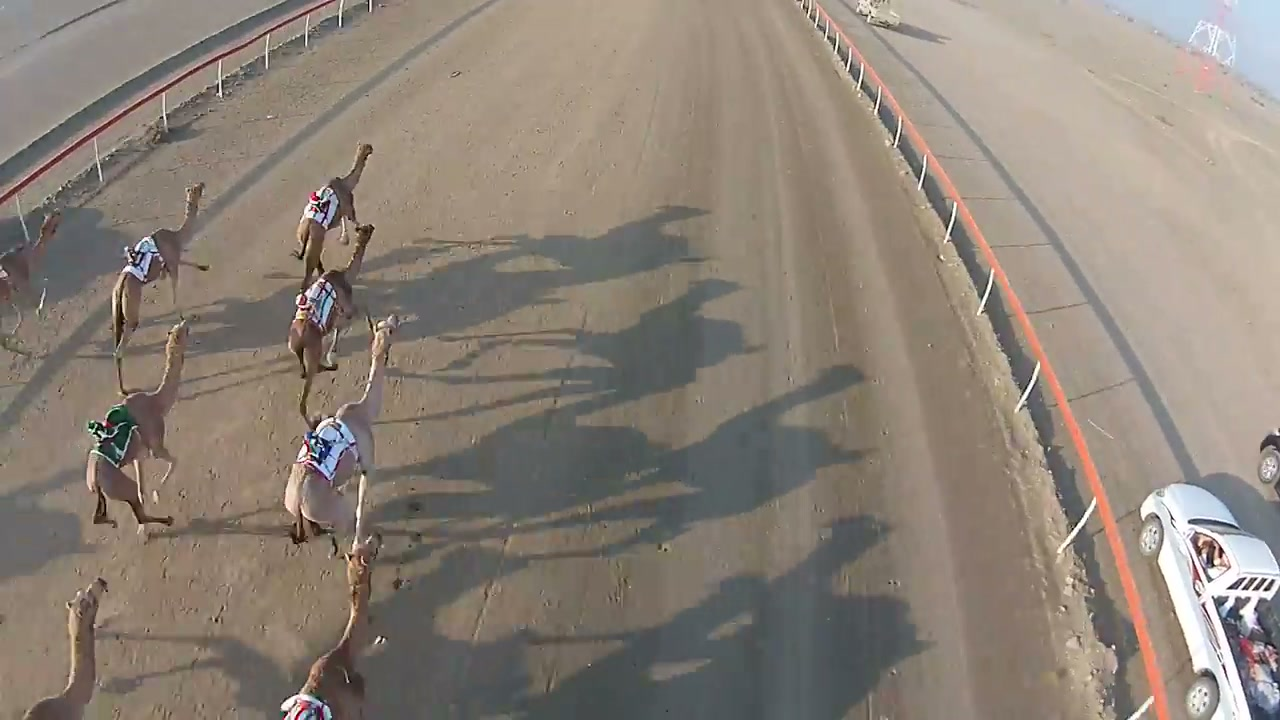animal_foot_print: (149, 511, 342, 719), (168, 346, 300, 537)
